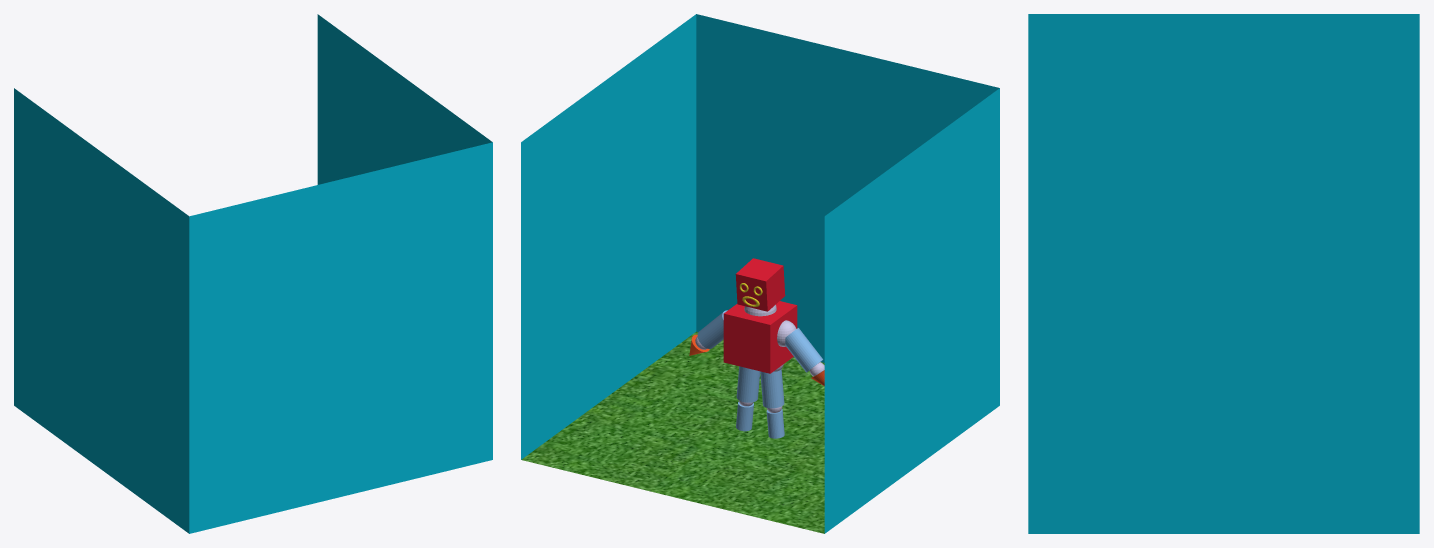
The model's file is Robot.glb.
3 renders of one model, left to right at view 1: azimuth 30°, elevation 25°; view 2: azimuth 150°, elevation 25°; view 3: azimuth 270°, elevation 25°, orthographic. The views are drawn at different scales.
Parts seen in each view (by area): view 1: Plane.001, Plane.003, Plane.002; view 2: Plane.002, Plane.003, Plane.001, Plane, Cube, Cube.001, Cylinder, Cylinder.003, Cylinder.002, Cylinder.001; view 3: Plane.002, Plane.003.
Part boxes in pixels (left/top/right/bottom): Plane.001: left=189, top=142, right=492, bottom=533; Plane.003: left=14, top=88, right=189, bottom=533; Plane.002: left=317, top=14, right=492, bottom=184; Plane.002: left=521, top=14, right=696, bottom=459; Plane.003: left=824, top=88, right=999, bottom=533; Plane.001: left=696, top=14, right=999, bottom=362; Plane: left=521, top=331, right=824, bottom=533; Cube: left=723, top=301, right=797, bottom=373; Cube.001: left=735, top=258, right=785, bottom=311; Cylinder: left=785, top=328, right=823, bottom=372; Cylinder.003: left=760, top=369, right=784, bottom=408; Cylinder.002: left=736, top=366, right=760, bottom=402; Cylinder.001: left=697, top=310, right=727, bottom=348; Plane.002: left=1028, top=179, right=1419, bottom=533; Plane.003: left=1028, top=14, right=1419, bottom=179.
Bounding box in the file's own units: 13 × 13 × 13.
8 materials, 1 textured.
